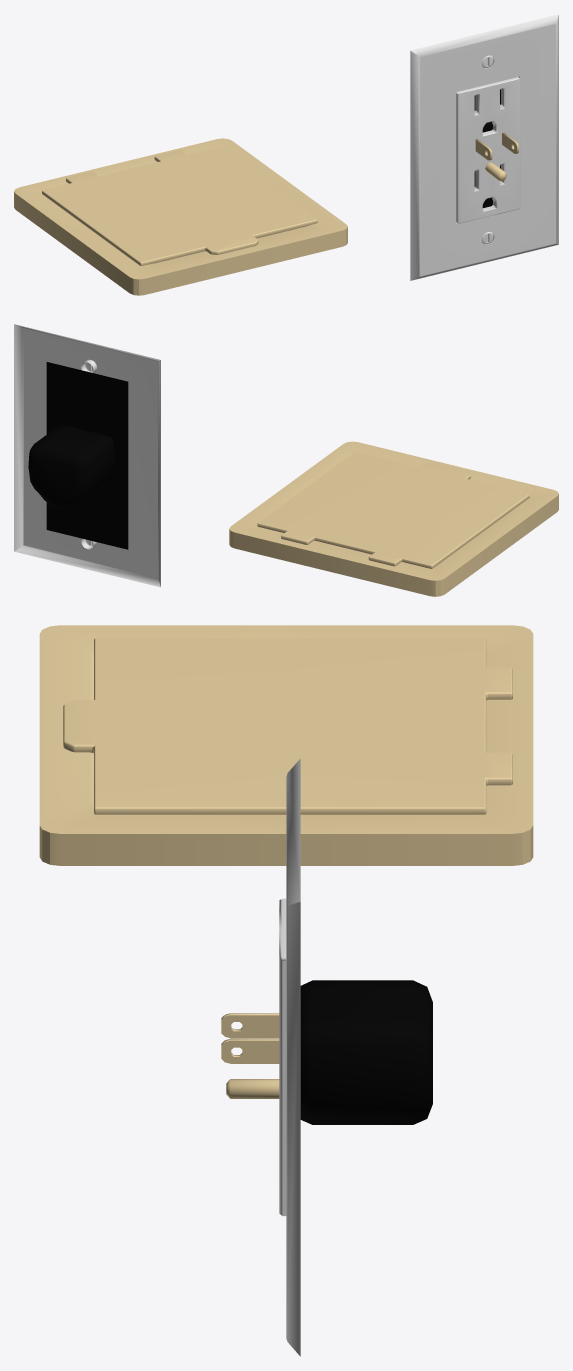
The model's file is plug.fbx.
3 renders of one model, top to bottom at view 1: azimuth 30°, elevation 25°; view 2: azimuth 150°, elevation 25°; view 3: azimuth 270°, elevation 25°, orthographic. The views are drawn at different scales.
Parts seen in each view (by area): view 1: duplex outlet, floor box lid, floor box outlet, plug; view 2: duplex outlet, floor box lid, floor box outlet, plug; view 3: floor box lid, floor box outlet, plug, duplex outlet.
Part boxes in pixels (box(x1,y1,x2,y2)): duplex outlet: box(410, 14, 558, 280); floor box lid: box(42, 147, 317, 265); floor box outlet: box(14, 138, 347, 295); plug: box(474, 122, 518, 181); duplex outlet: box(14, 324, 160, 587); floor box lid: box(257, 451, 529, 568); floor box outlet: box(229, 441, 558, 596); plug: box(28, 425, 114, 508); floor box lid: box(63, 637, 512, 814); floor box outlet: box(39, 625, 533, 865); plug: box(221, 980, 432, 1124); duplex outlet: box(279, 758, 300, 1356).
Size of the model in its own units: 79.74 by 35.85 by 35.27.
